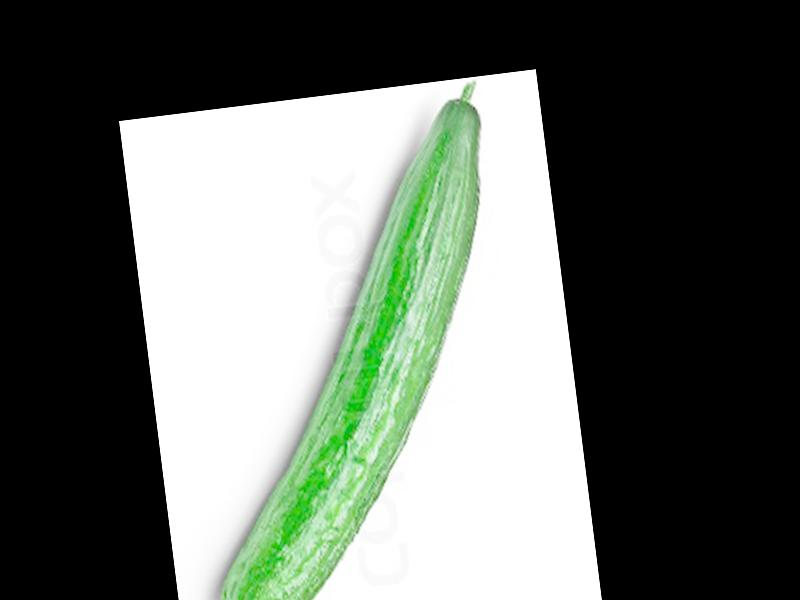Cucumber: (157, 76, 540, 600)
